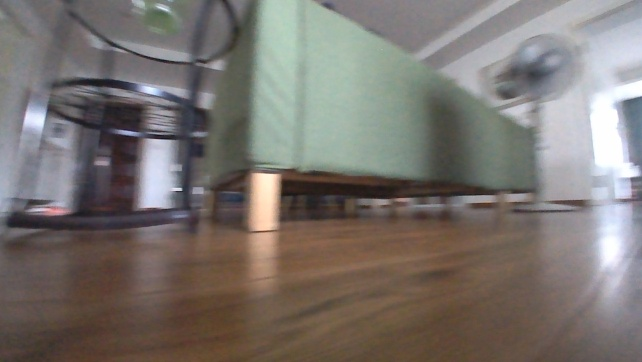sofe1: (197, 0, 537, 236)
